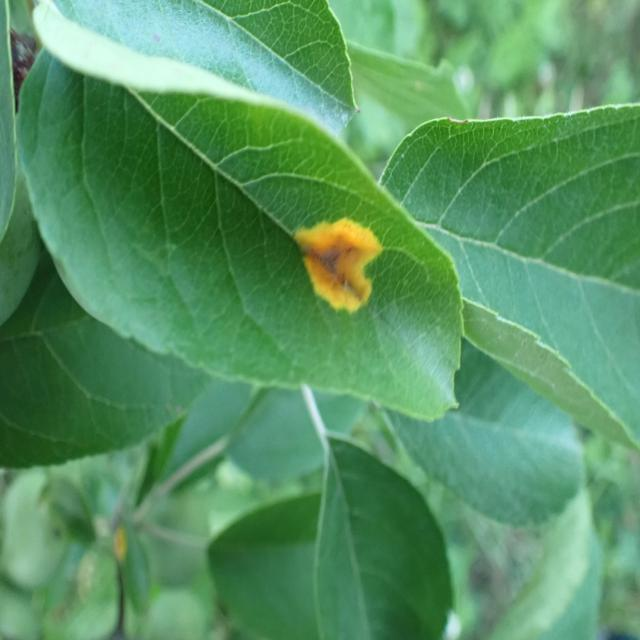Rust: (295, 198, 386, 327)
